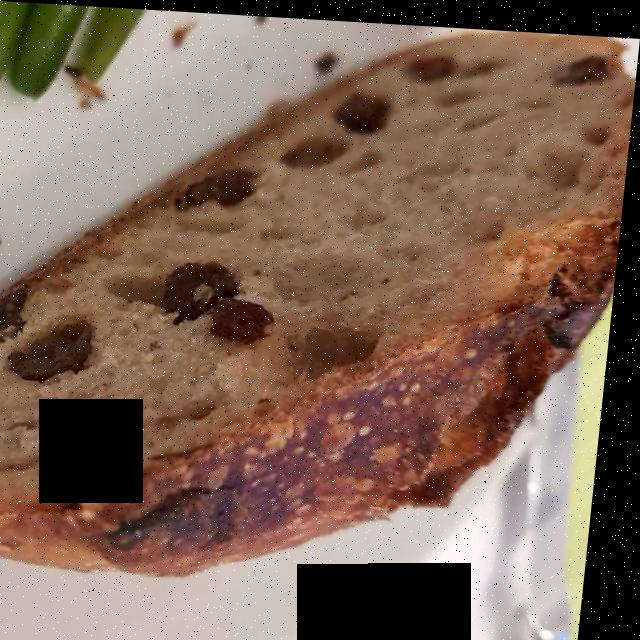bread-fruit: (0, 30, 616, 552)
